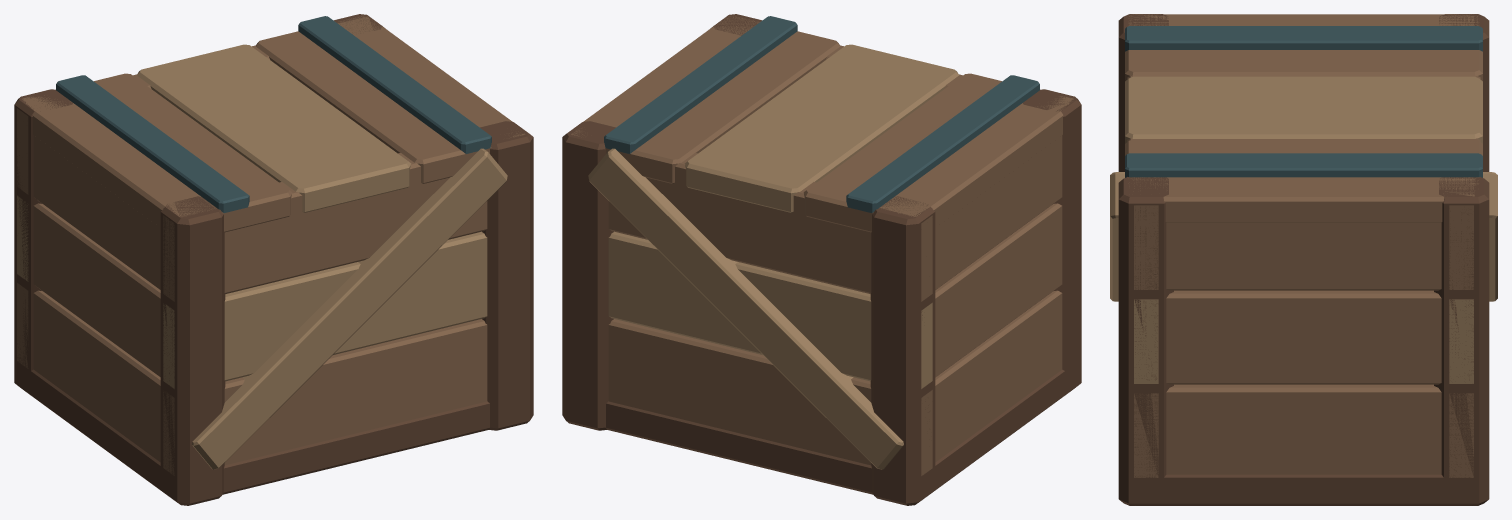
Rendered from cargo-crate.glb.
3 views of the same model, side by side, from view 1: azimuth 30°, elevation 25°; view 2: azimuth 150°, elevation 25°; view 3: azimuth 270°, elevation 25° (orthographic). The views are drawn at different scales.
Visible parts, largest first — view 1: cargo-crate__body; view 2: cargo-crate__body; view 3: cargo-crate__body.
Part boxes in pixels (bbox=[...]): cargo-crate__body: bbox=[14, 14, 533, 505]; cargo-crate__body: bbox=[562, 14, 1081, 505]; cargo-crate__body: bbox=[1110, 14, 1497, 505].
Size of the model in its own units: 0.52 by 0.411 by 0.455.
